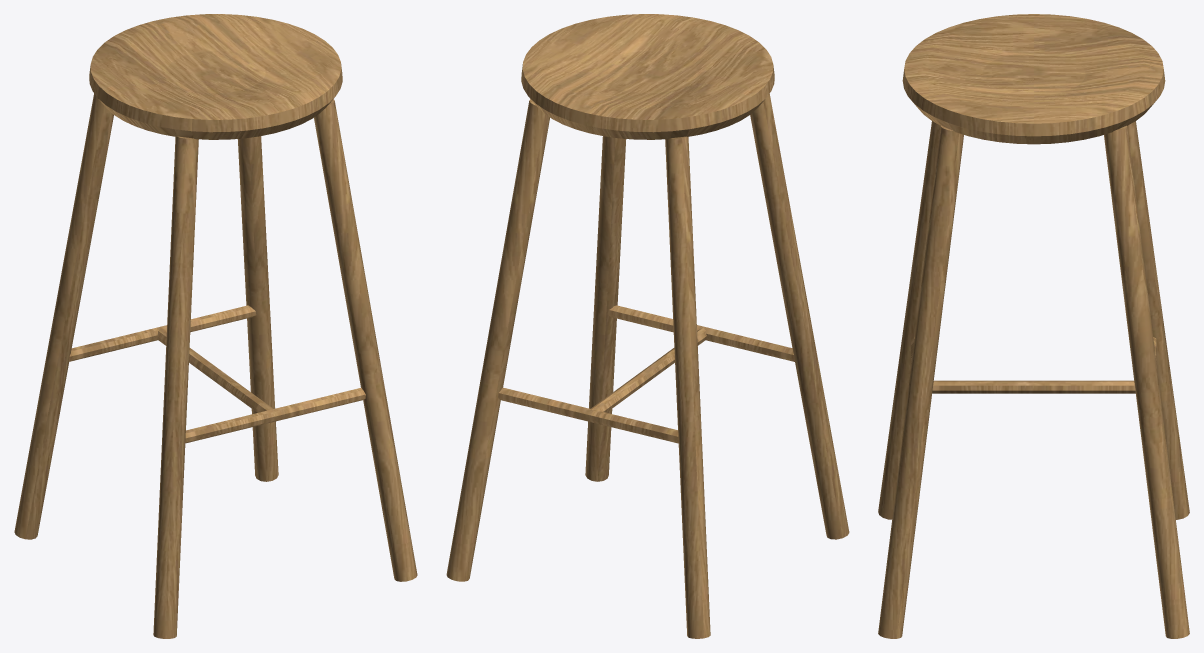
Rendered from oak.glb.
The picture shows the model from 3 angles, left to right: view 1: azimuth 30°, elevation 25°; view 2: azimuth 150°, elevation 25°; view 3: azimuth 270°, elevation 25°; orthographic projection. The views are drawn at different scales.
Visible parts, largest first — view 1: oak; view 2: oak; view 3: oak.
Boxes of the visible parts, x1=… form: oak: x1=14, y1=14, x2=417, y2=638; oak: x1=446, y1=14, x2=849, y2=638; oak: x1=878, y1=14, x2=1189, y2=638.
Size of the model in its own units: 0.4227 by 0.7627 by 0.4227.
Materials: 1 (1 with a texture image).
